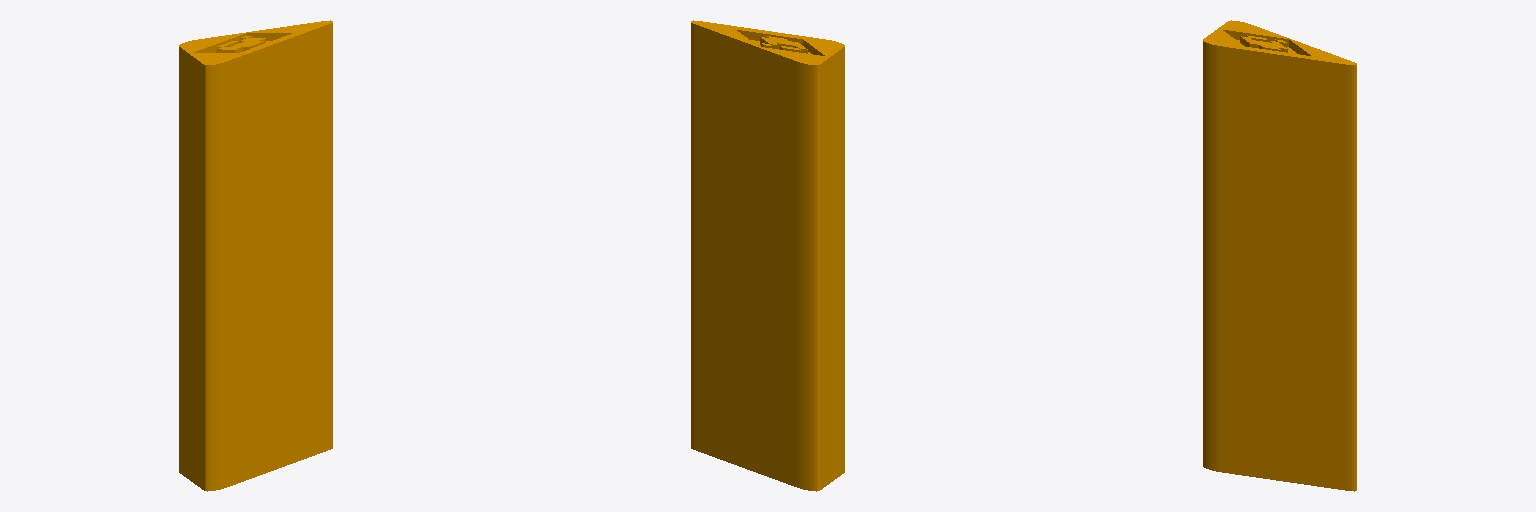
robot.urdf — 40x40_Triangle:
<?xml version="1.0" ?>
<robot name="40x40_Triangle">

    <link name="40x40_Triangle">
        <visual>
            <origin rpy="1.5707963267948966 0 0" xyz="-0.0025 0 -0.0"/>
            <geometry>
                <mesh filename="Shapes/40x40_triangle.obj" scale="1.1546 1 0.385"/>
            </geometry>
        </visual>
        <collision>
            <origin rpy="1.5707963267948966 0 0" xyz="-0.0025 0 -0.0"/>
            <geometry>
                <mesh filename="Shapes/40x40_triangle.obj" scale="1.1546 1 0.385"/>
            </geometry>
        </collision>
        <inertial>
            <mass value="0.3"/>
            <inertia ixx="0.000029435425" ixy="0.0" ixz="0.0" iyy="0.000029435425" iyz="0.0" izz="0.00000725805"/>
        </inertial>
    </link>

</robot>

--- Facts derived from the render (not from the file) ---
Views: 3 orthographic renders of the robot side by side, from view 1: azimuth 30°, elevation 25°; view 2: azimuth 150°, elevation 25°; view 3: azimuth 330°, elevation 25°.
Model 40x40_Triangle with 1 links and 0 joints (none), rooted at 40x40_Triangle, posed all joints at 0.
Links seen in each view (by area): view 1: 40x40_Triangle; view 2: 40x40_Triangle; view 3: 40x40_Triangle.
Boxes of the visible links, x1,y1,x2,y2 form: 40x40_Triangle: [179, 20, 332, 491]; 40x40_Triangle: [691, 20, 844, 491]; 40x40_Triangle: [1203, 20, 1356, 491].
Size in the robot's own frame: 0.0365 by 0.0137 by 0.105 metres.
Meshes: 1 distinct files referenced, 1 mesh visuals loaded (1 OBJ).
